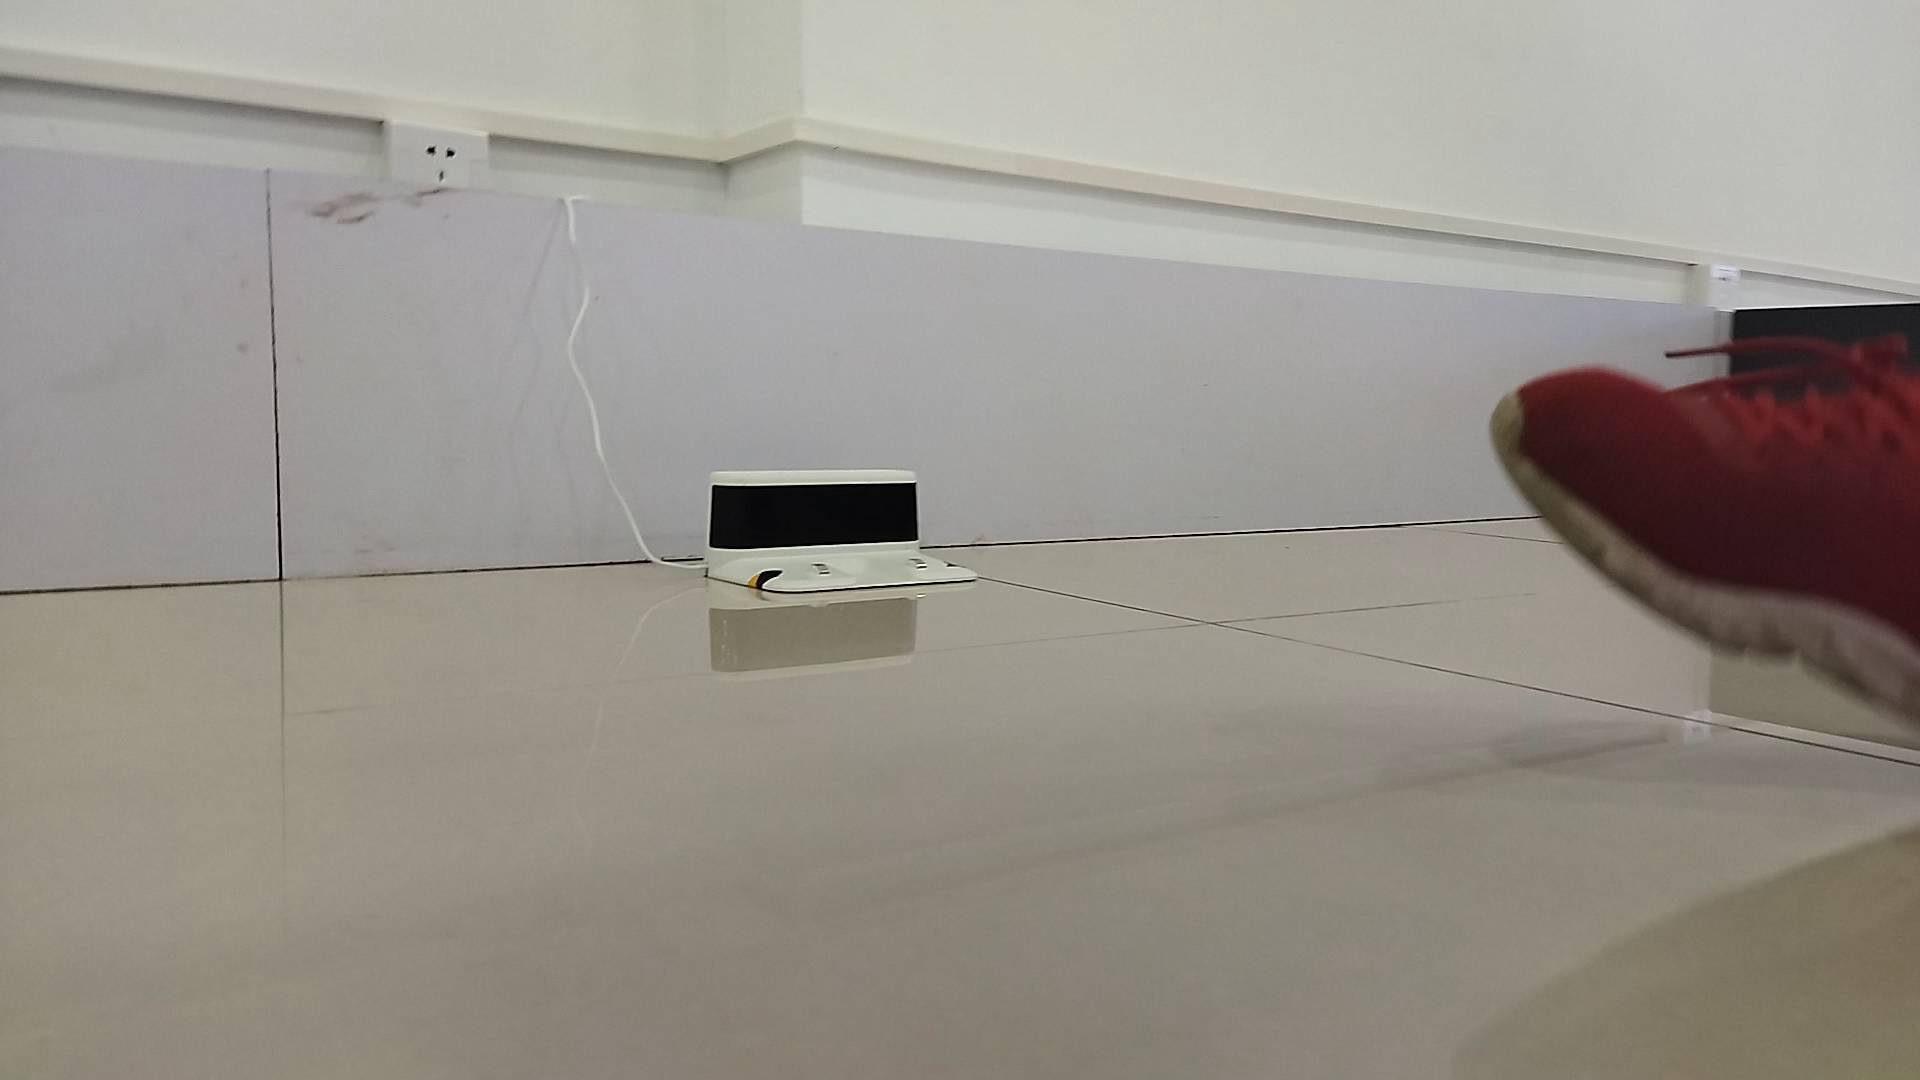recharge seat: (708, 468, 988, 589)
